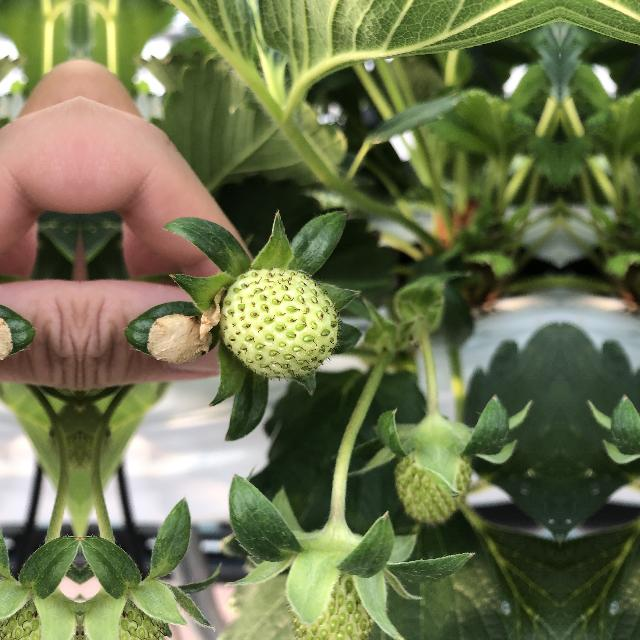Health_25: (219, 259, 345, 387)
